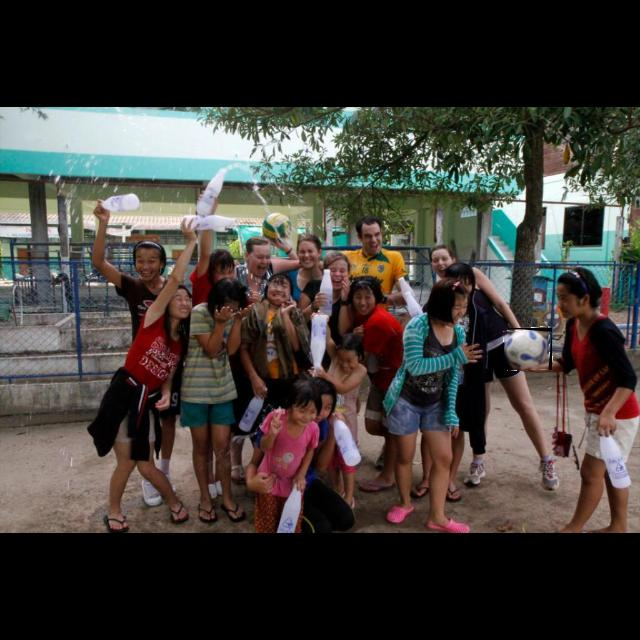Football: (504, 328, 552, 370)
